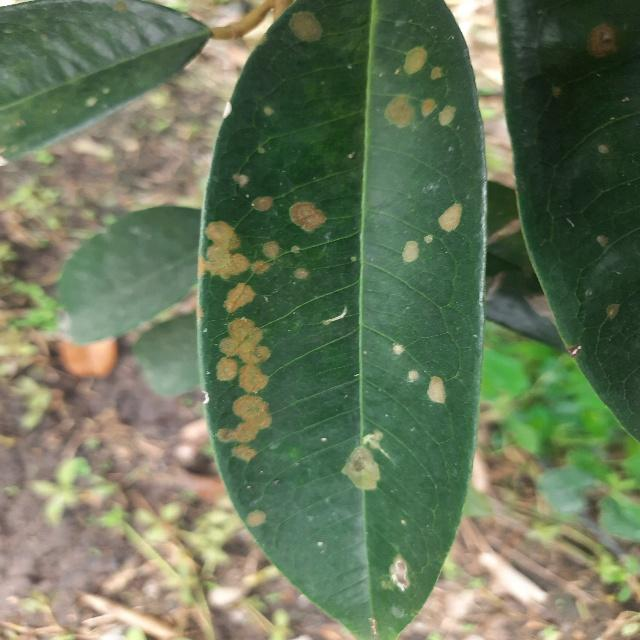Algal Leaf Spot: (183, 0, 498, 640)
